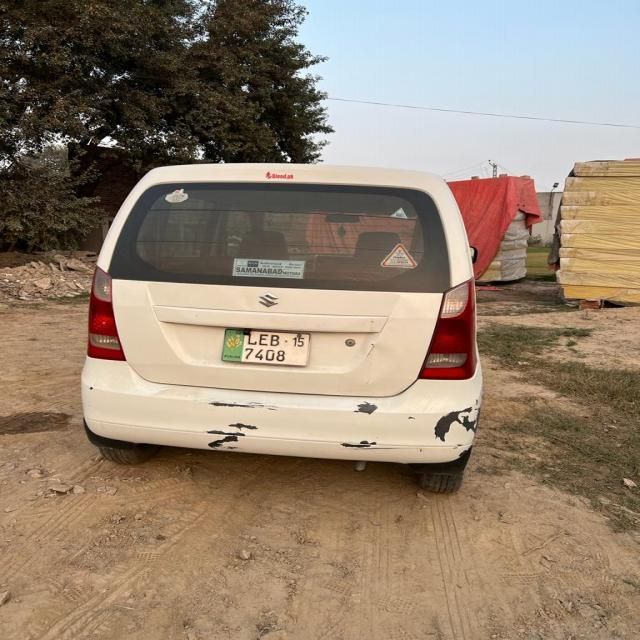scratch: (208, 395, 282, 456), (429, 398, 479, 456), (338, 395, 385, 454)
